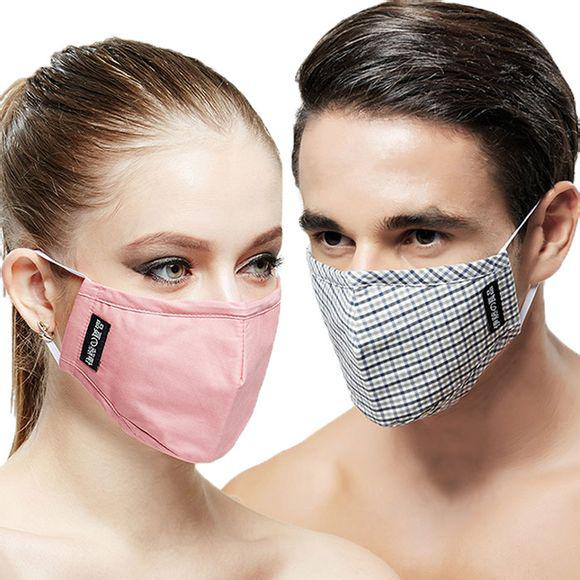OK: (32, 217, 285, 457), (309, 191, 543, 424)
